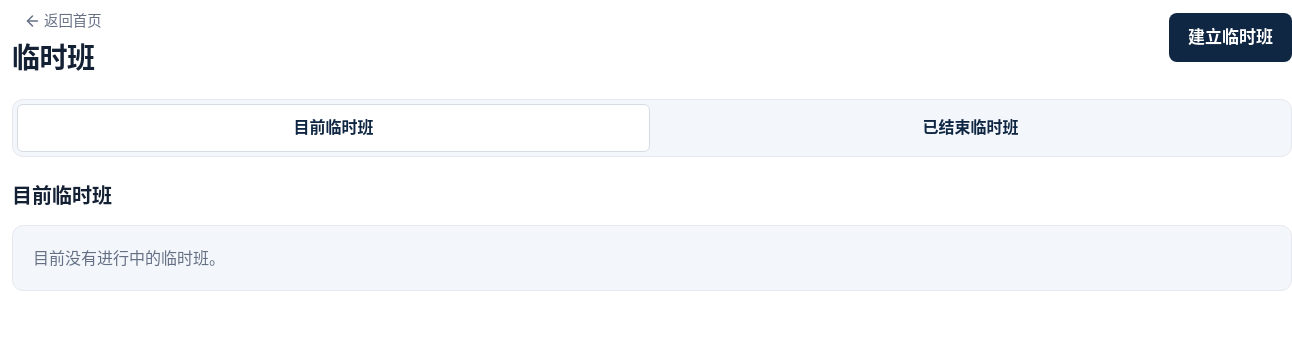
it: ended temporary class list is lazy and stays available after switching back
The image size is (1292, 352).
Expected: the text "目前没有进行中的临时班。" is shown, [12,225,1291,291]
Click the button "已结束临时班" at (970, 128), box [654,104,1287,152]
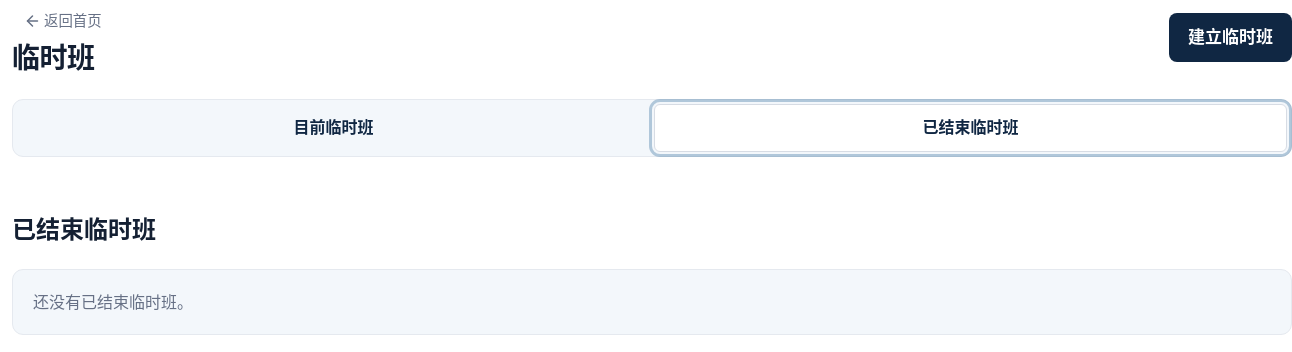
Expected: the text "还没有已结束临时班。" is shown, [12,269,1291,335]
